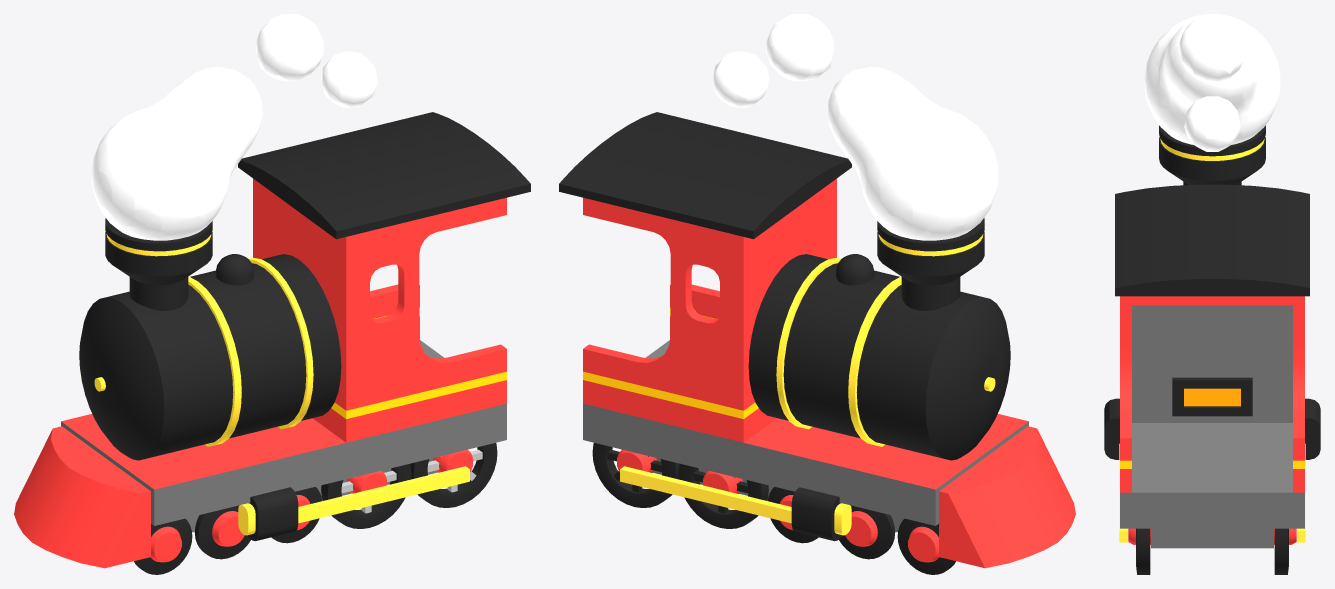
Rendered from locomotive.glb.
3 renders of one model, left to right at view 1: azimuth 30°, elevation 25°; view 2: azimuth 150°, elevation 25°; view 3: azimuth 270°, elevation 25°, orthographic.
Parts seen in each view (by area): view 1: Cube.554; view 2: Cube.554; view 3: Cube.554.
Part boxes in pixels (x1=…): Cube.554: x1=14, y1=14, x2=530, y2=574; Cube.554: x1=559, y1=14, x2=1075, y2=574; Cube.554: x1=1104, y1=14, x2=1320, y2=574.
Size of the model in its own units: 2.21 by 2.31 by 0.9262.
Materials: 1 (1 with a texture image).
